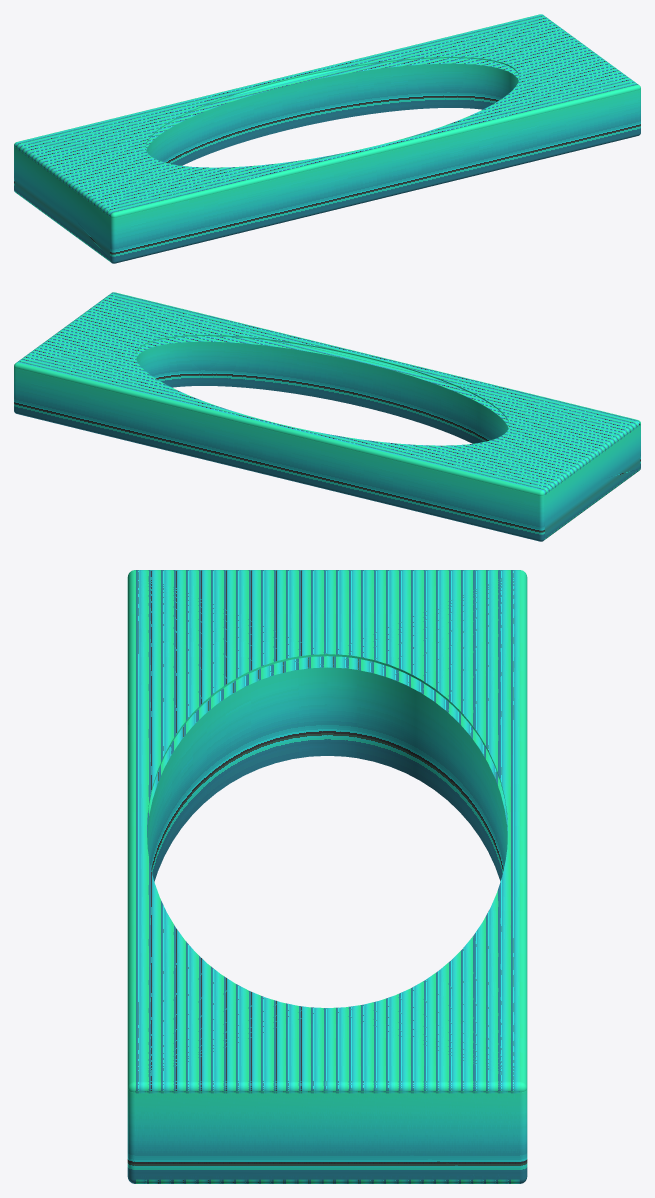
File: hole.fbx
The picture shows the model from 3 angles, top to bottom: view 1: azimuth 30°, elevation 25°; view 2: azimuth 150°, elevation 25°; view 3: azimuth 270°, elevation 25°; orthographic projection. The views are drawn at different scales.
Visible parts, largest first — view 1: hole; view 2: hole; view 3: hole.
Boxes of the visible parts, bbox=[...] form: hole: bbox=[14, 14, 640, 263]; hole: bbox=[14, 292, 640, 541]; hole: bbox=[127, 570, 527, 1183].
Bounding box in the file's own units: 830 × 76.16 × 271.
1 material, 1 textured.
